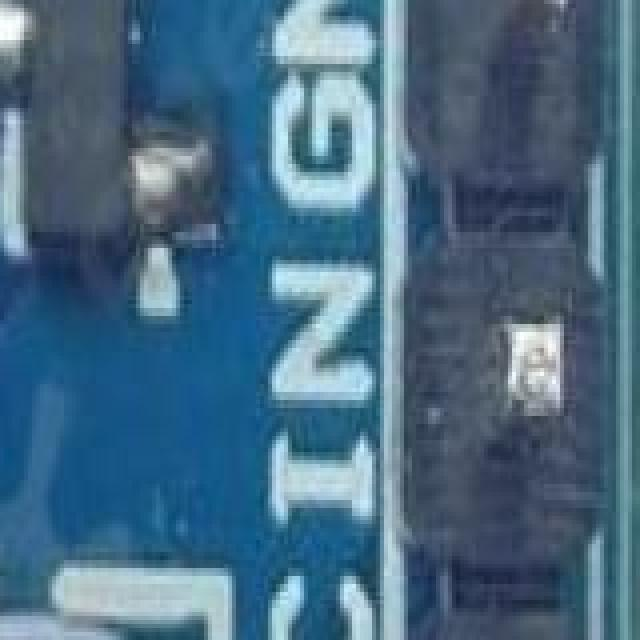connector: (380, 0, 620, 640)
resistor: (0, 572, 168, 640)
transistor: (0, 0, 228, 272)
